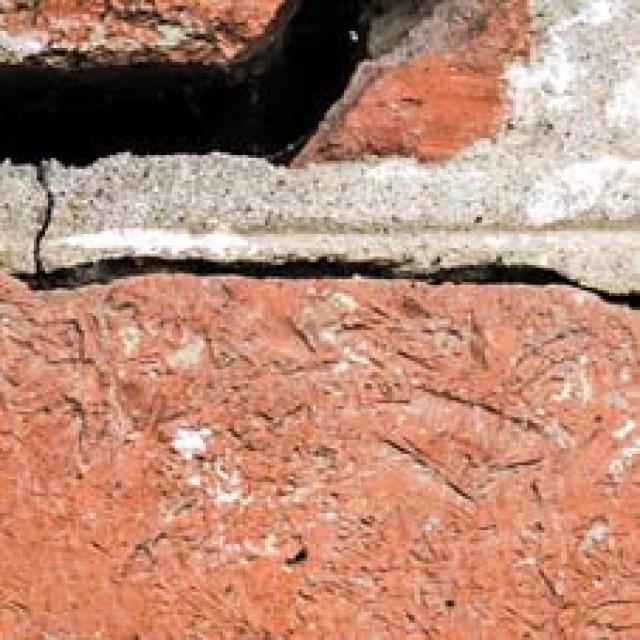Crack: (6, 2, 640, 186), (0, 208, 640, 332)
